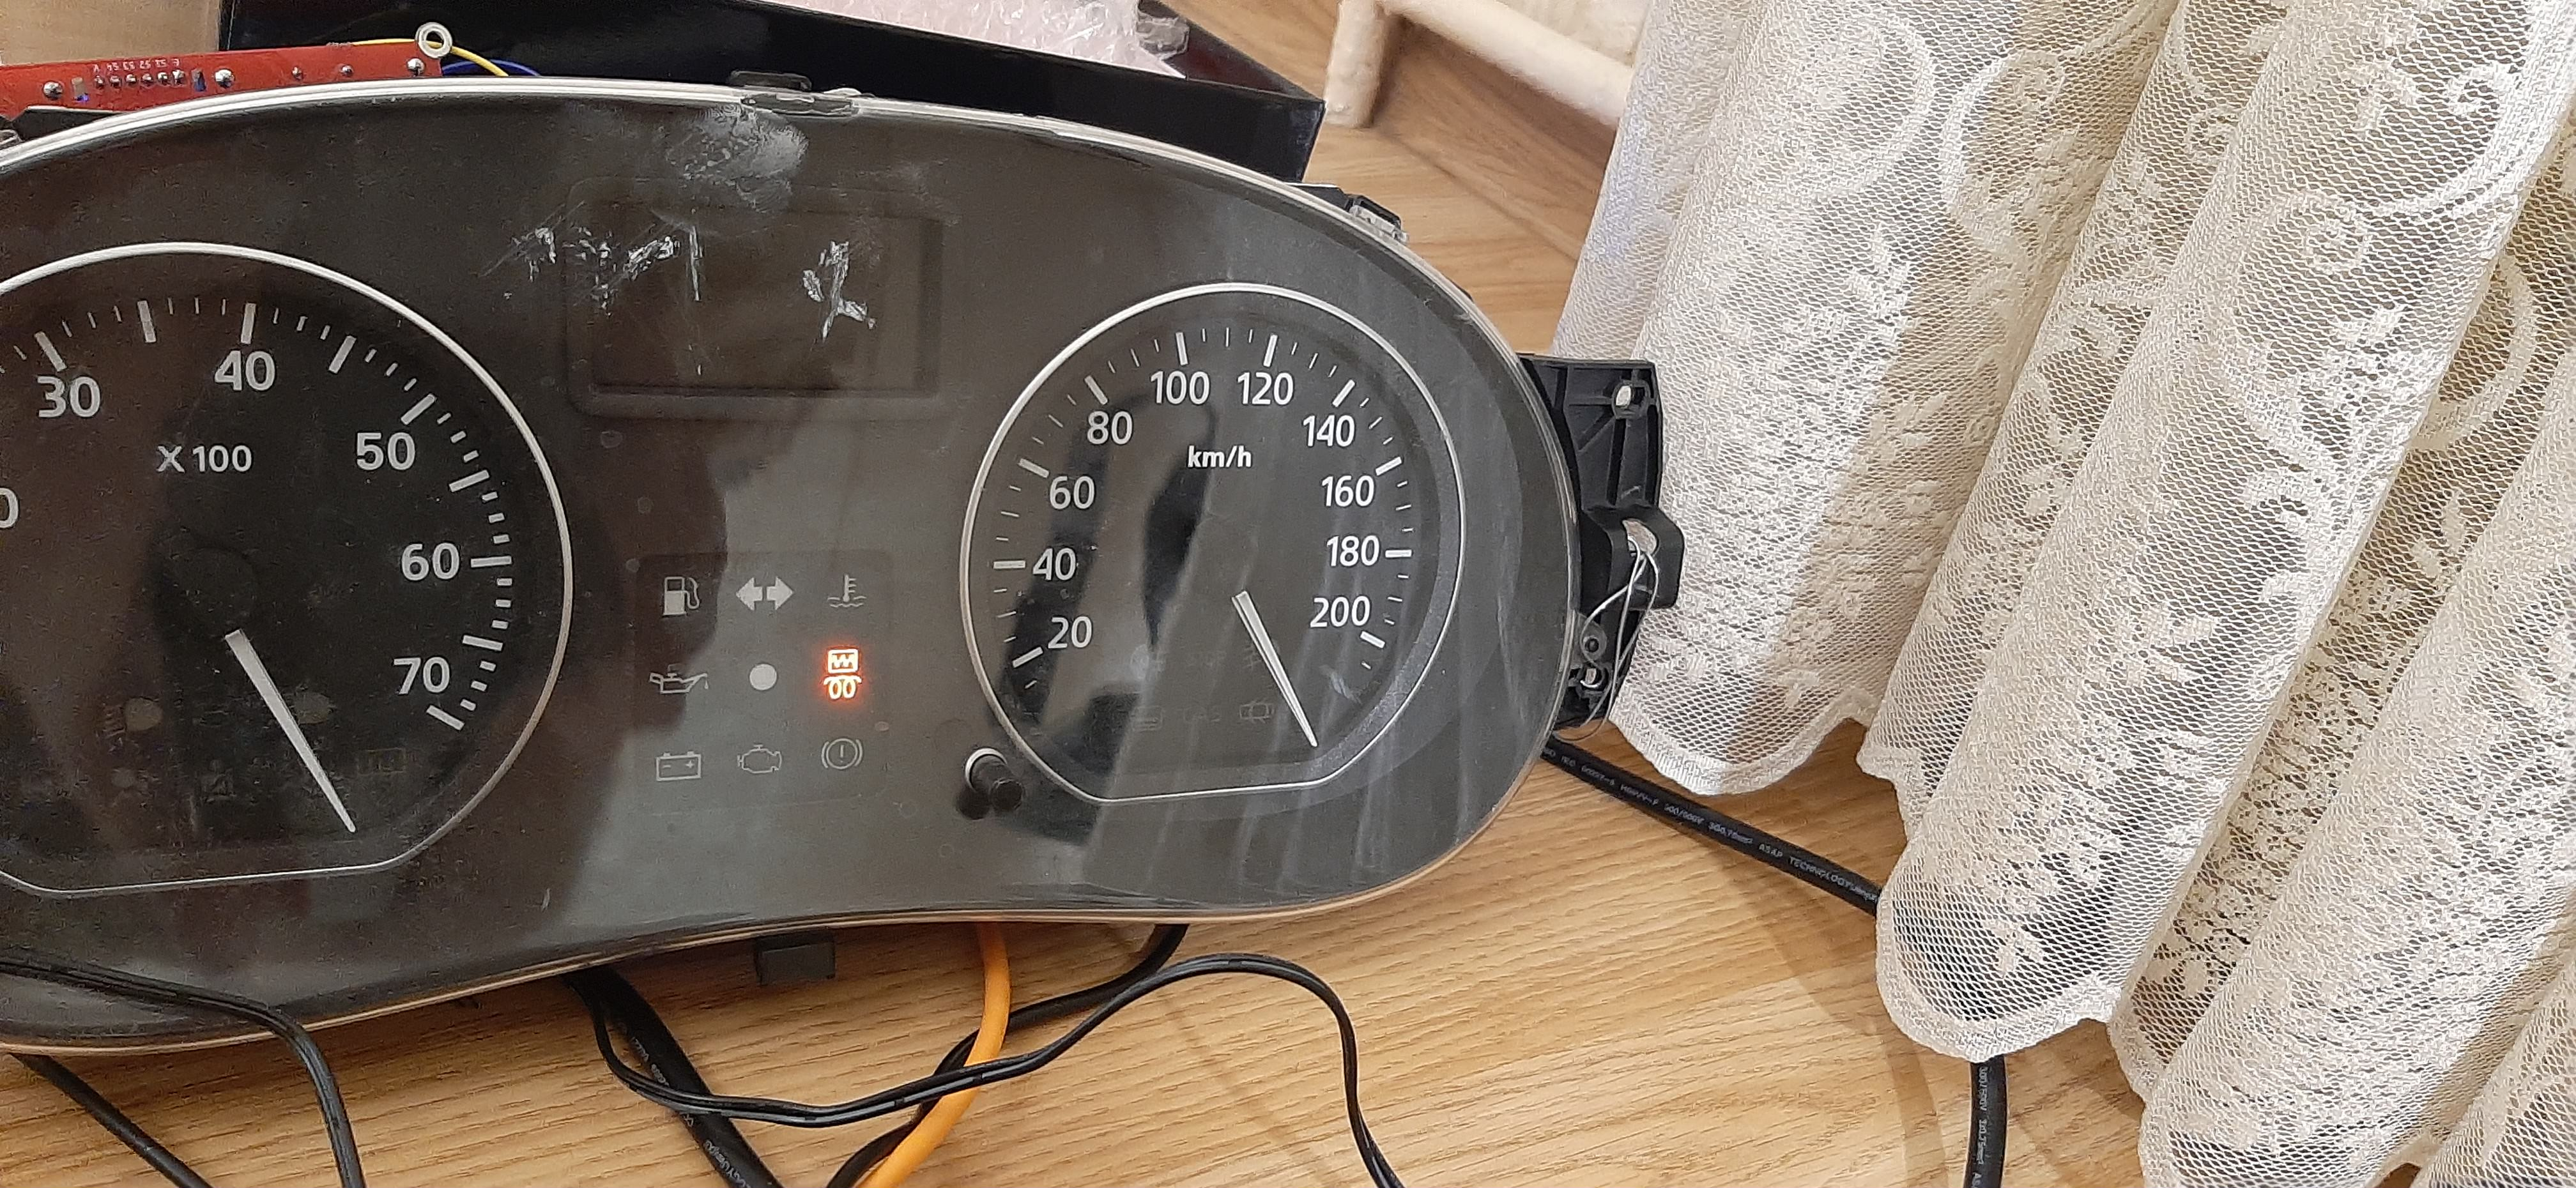diesel14: (820, 646, 864, 705)
